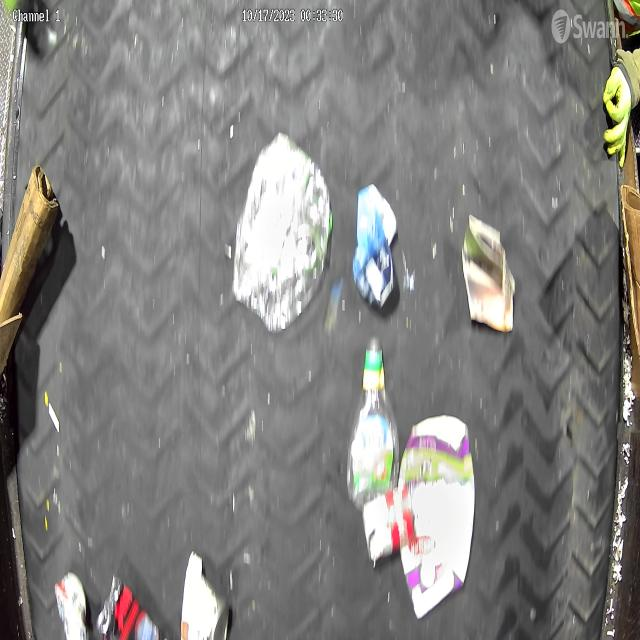can: (180, 550, 232, 640), (362, 486, 414, 562)
non_white_jug: (398, 414, 476, 619)
plastic_bottle: (349, 338, 400, 506)
